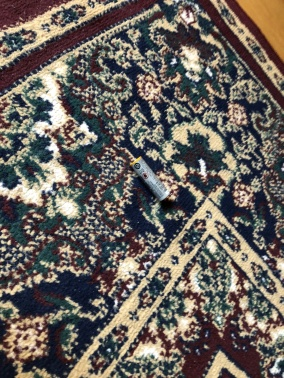battery: (128, 155, 172, 203)
